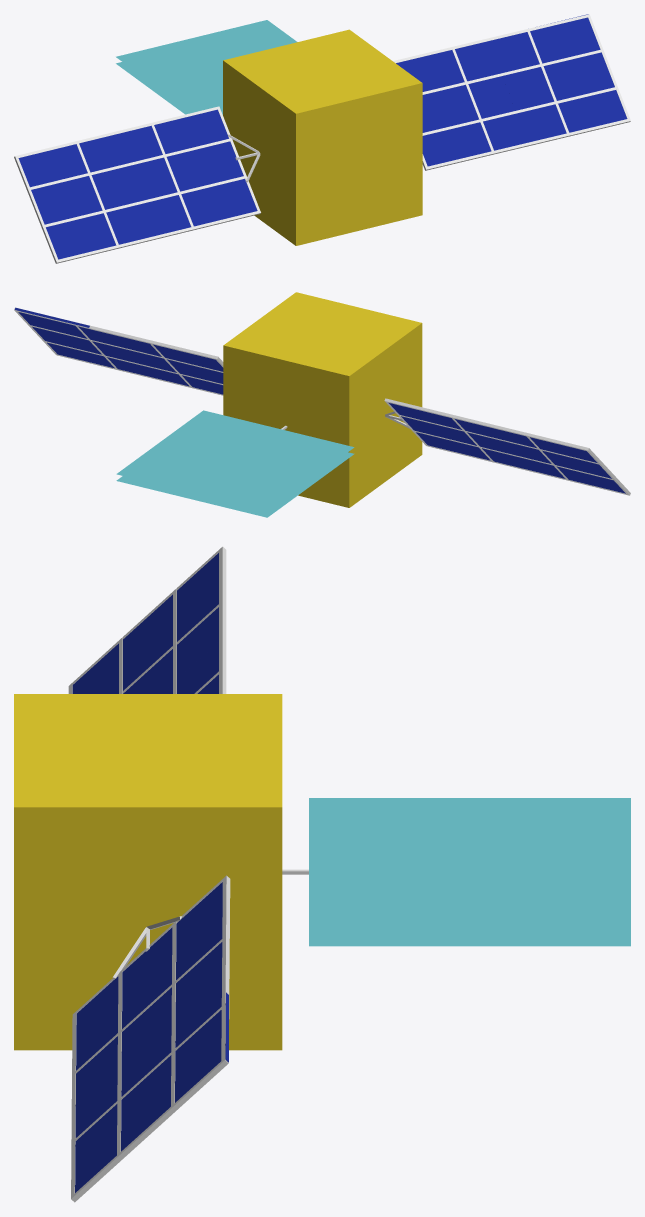
Rendered from Satellite.fbx.
3 views of the same model, one above another, from view 1: azimuth 30°, elevation 25°; view 2: azimuth 150°, elevation 25°; view 3: azimuth 270°, elevation 25° (orthographic). The views are drawn at different scales.
Parts seen in each view (by area): view 1: Plane, Cube, Cylinder.005, Plane.001; view 2: Cube, Plane.001, Plane, Cylinder.005; view 3: Cube, Plane.001, Plane, Cylinder.005.
Part boxes in pixels (bbox=[...]): Plane: bbox=[18, 14, 627, 259]; Cube: bbox=[223, 29, 422, 245]; Cylinder.005: bbox=[14, 14, 630, 263]; Plane.001: bbox=[116, 20, 297, 114]; Cube: bbox=[223, 292, 422, 507]; Plane.001: bbox=[116, 410, 354, 517]; Plane: bbox=[14, 307, 625, 493]; Cylinder.005: bbox=[14, 307, 630, 495]; Cube: bbox=[14, 694, 282, 1050]; Plane.001: bbox=[309, 798, 630, 946]; Plane: bbox=[72, 553, 228, 1192]; Cylinder.005: bbox=[68, 546, 230, 1202].
Size of the model in its own units: 455 by 100 by 230.
